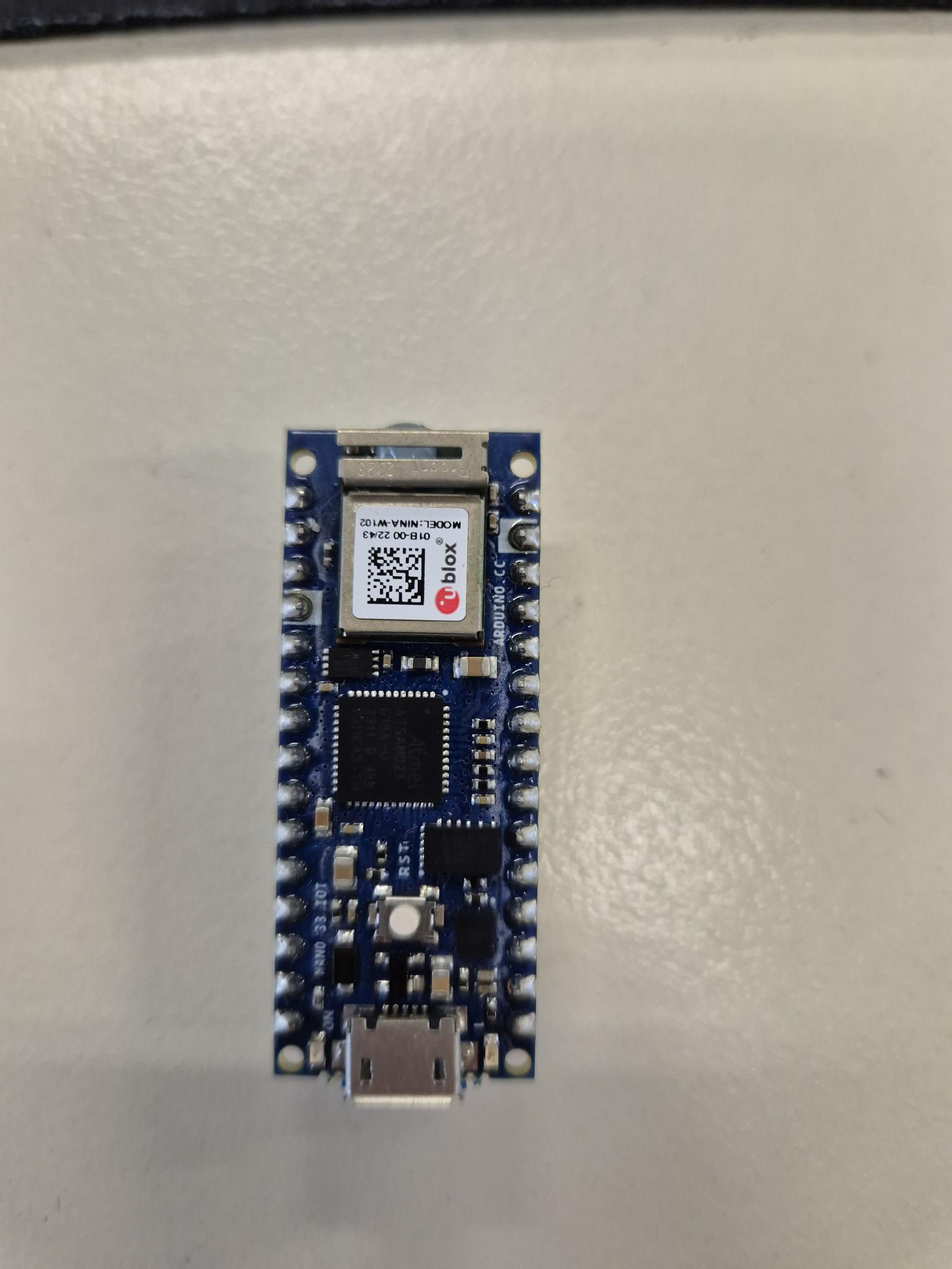arduino-nano-iot-33: (275, 425, 540, 1100)
